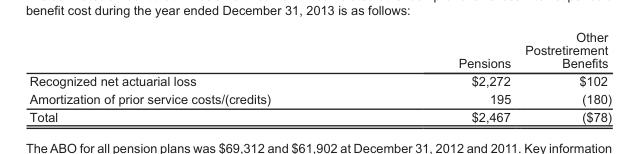table: (28, 29, 611, 123)
table column: (28, 29, 363, 123), (363, 29, 517, 123), (517, 29, 611, 123)
table column header: (28, 29, 611, 71)
table row: (28, 29, 611, 71), (28, 71, 611, 89), (28, 89, 611, 107), (28, 107, 611, 123)
